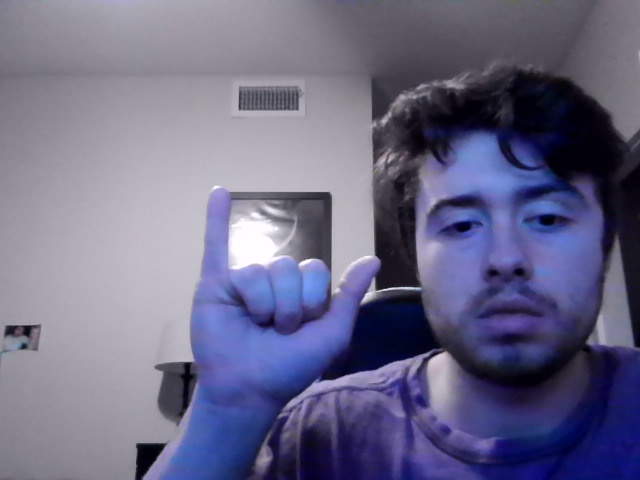y: (188, 185, 382, 420)
